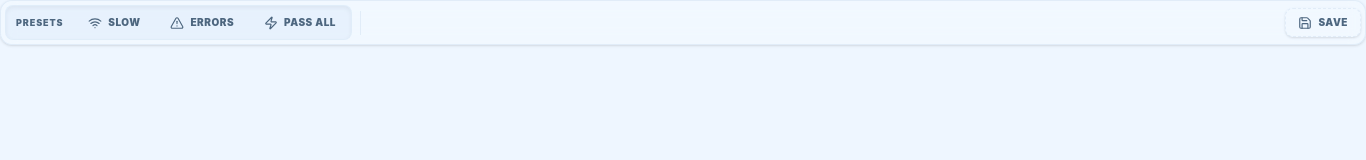
Scenario: PresetBar › shows save input when Save is clicked and no preset is active
Click the button "Save": (1323, 22) [1286, 8, 1361, 37]
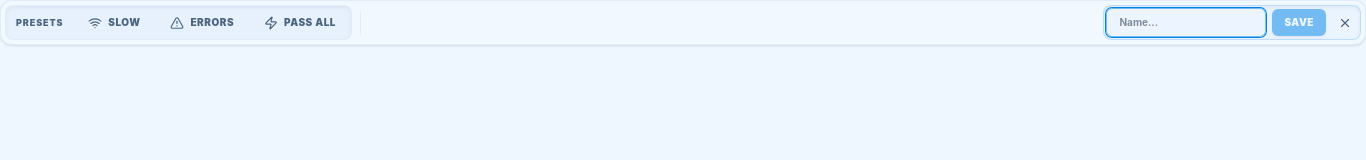
Now the field with placeholder "Name..." is shown, box [1106, 8, 1266, 37]
